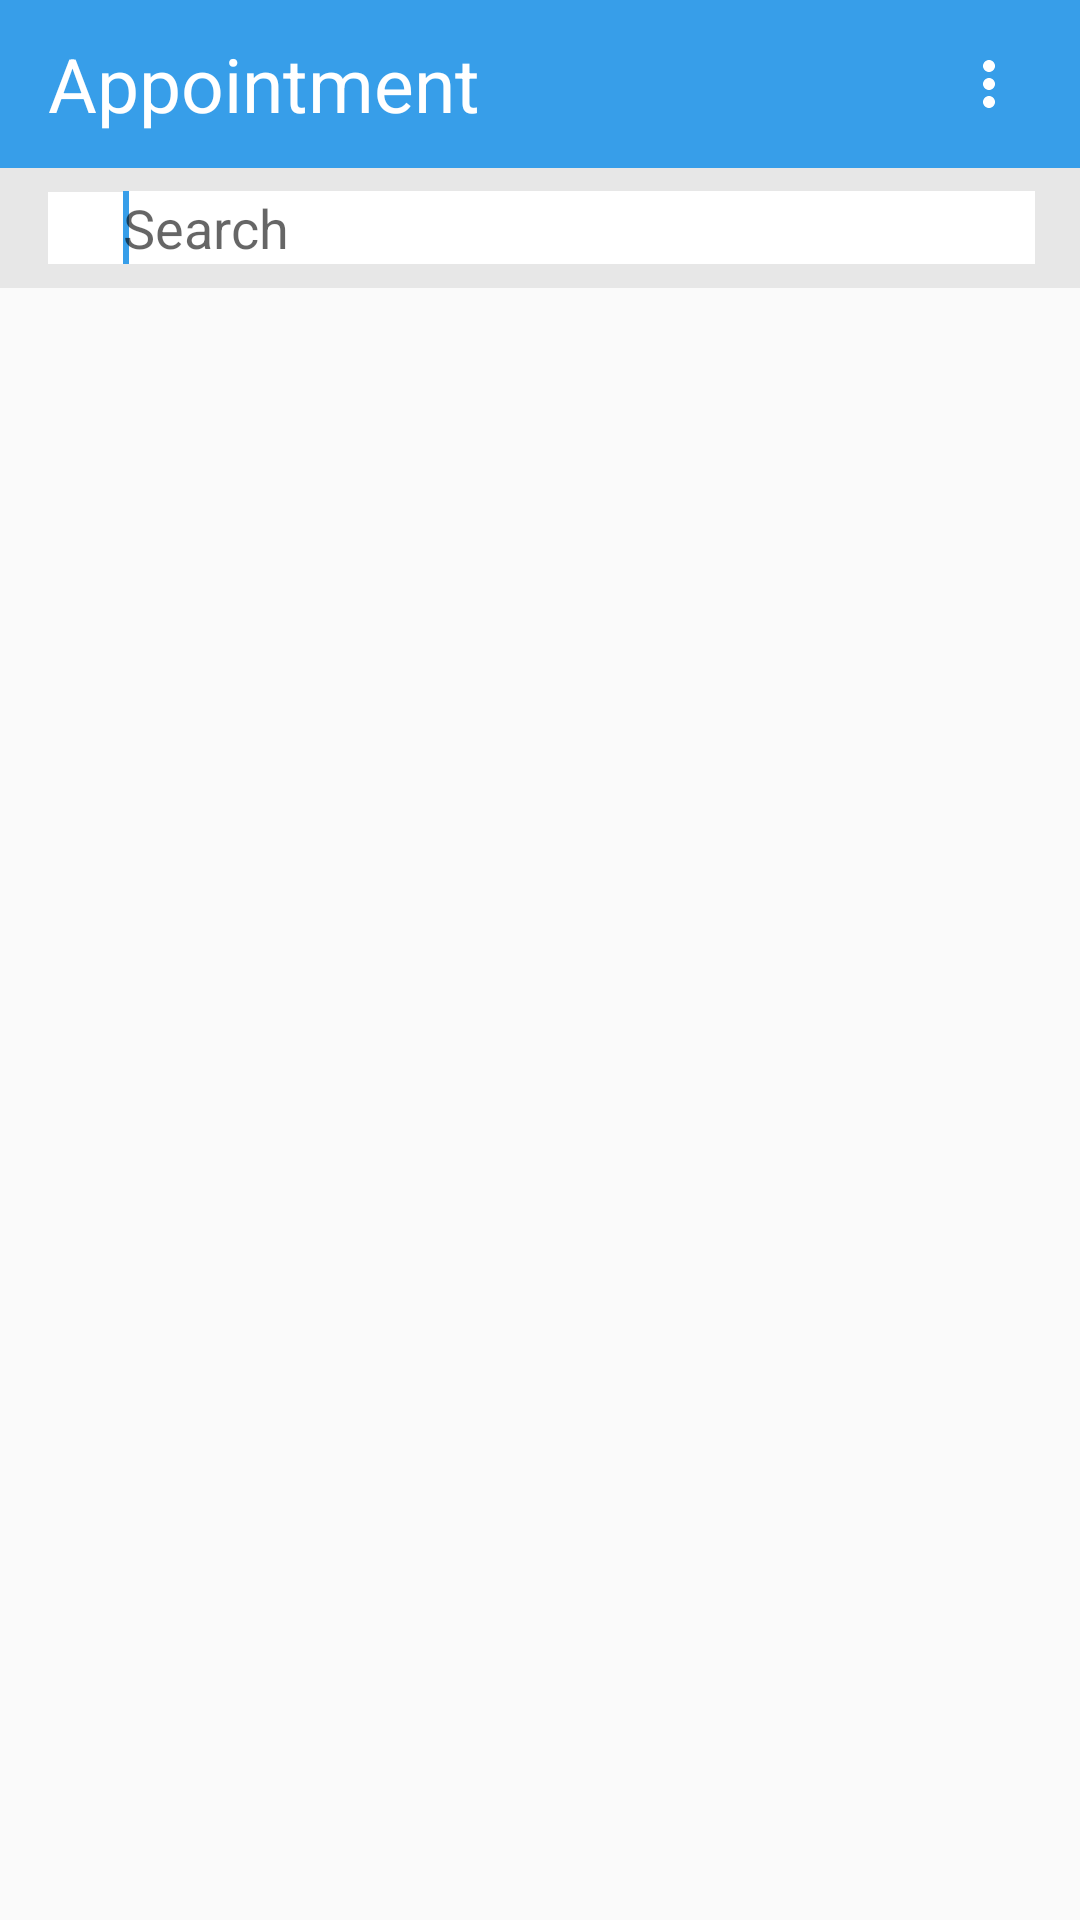

Icon bounding boxes for this 1080px×1920px phone screenshot, format {"x1": x1, "y1": y1, "x2": x2, "y2": y2}:
more vert: {"x1": 983, "y1": 60, "x2": 995, "y2": 108}
